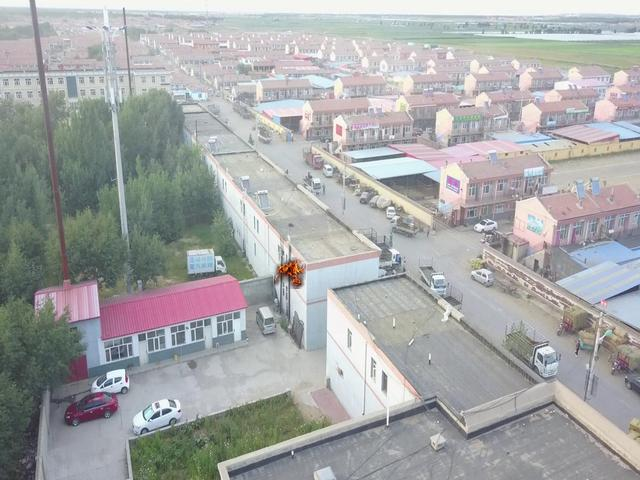fire: (275, 259, 304, 287)
